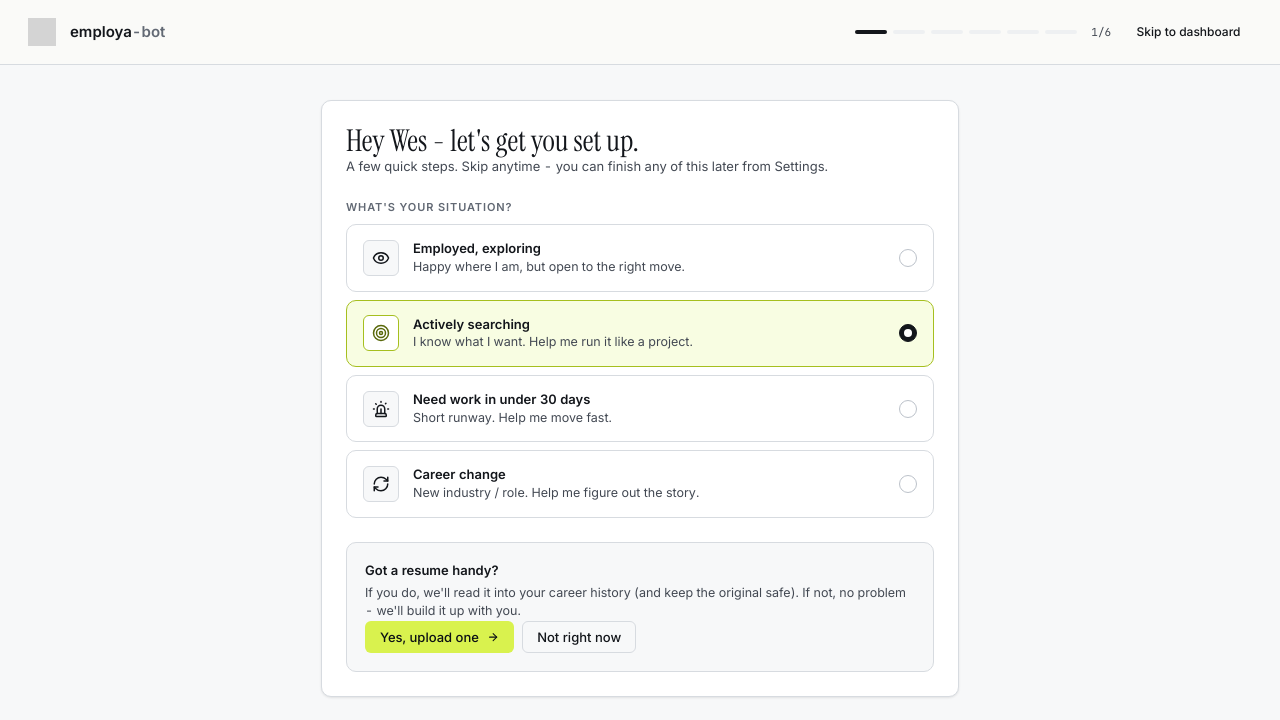
Test: OnboardingScreen › forks into Branch A (has resume) -> resume upload
This screenshot has width=1280, height=720.
Click the button "Yes, upload one" at (440, 637), box [365,621,514,653]
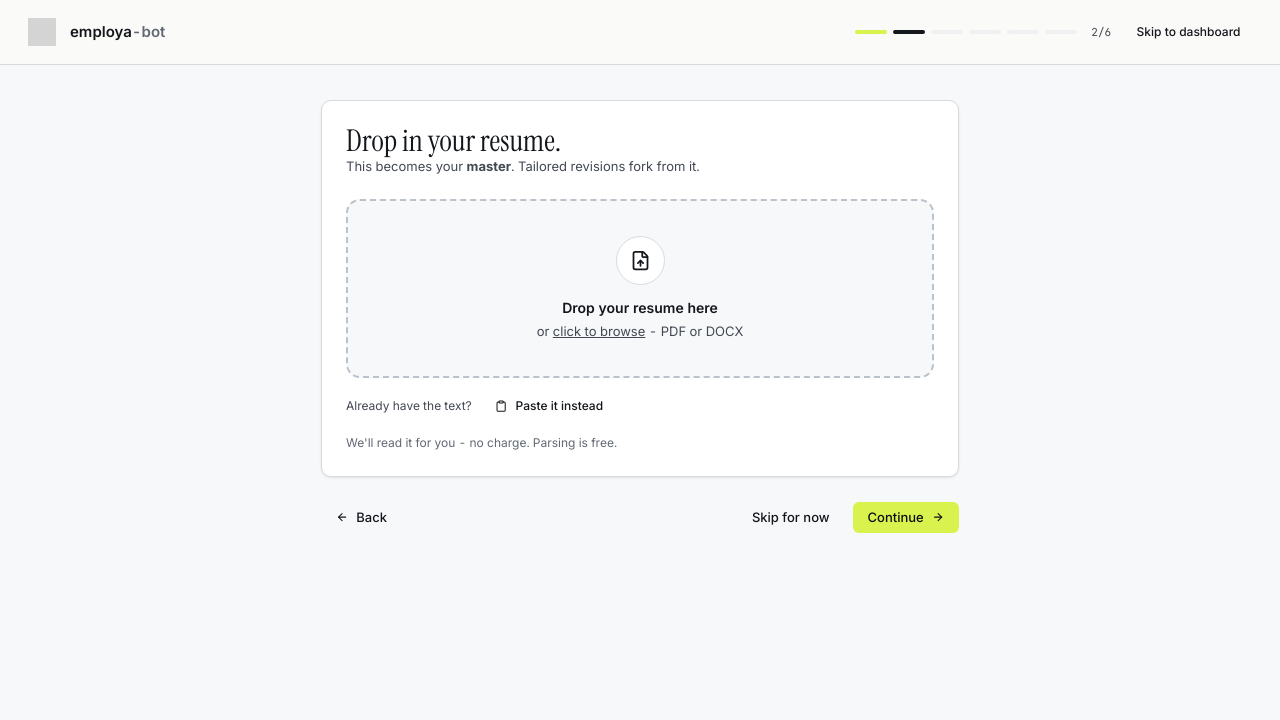
expect the heading "Drop in your resume." is shown: met, box [346,121,561,160]
expect the text "We'll read it for you - no charge. Parsing is free." is shown: met, box [346,435,617,450]
